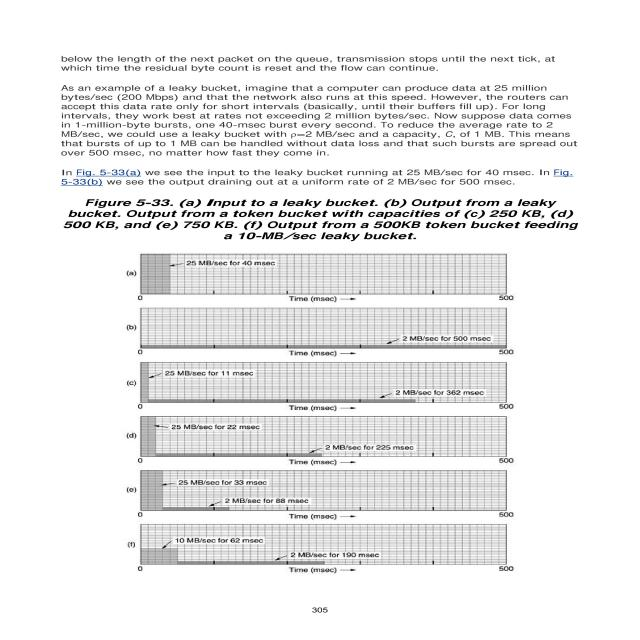diagram: (25, 193, 603, 584)
